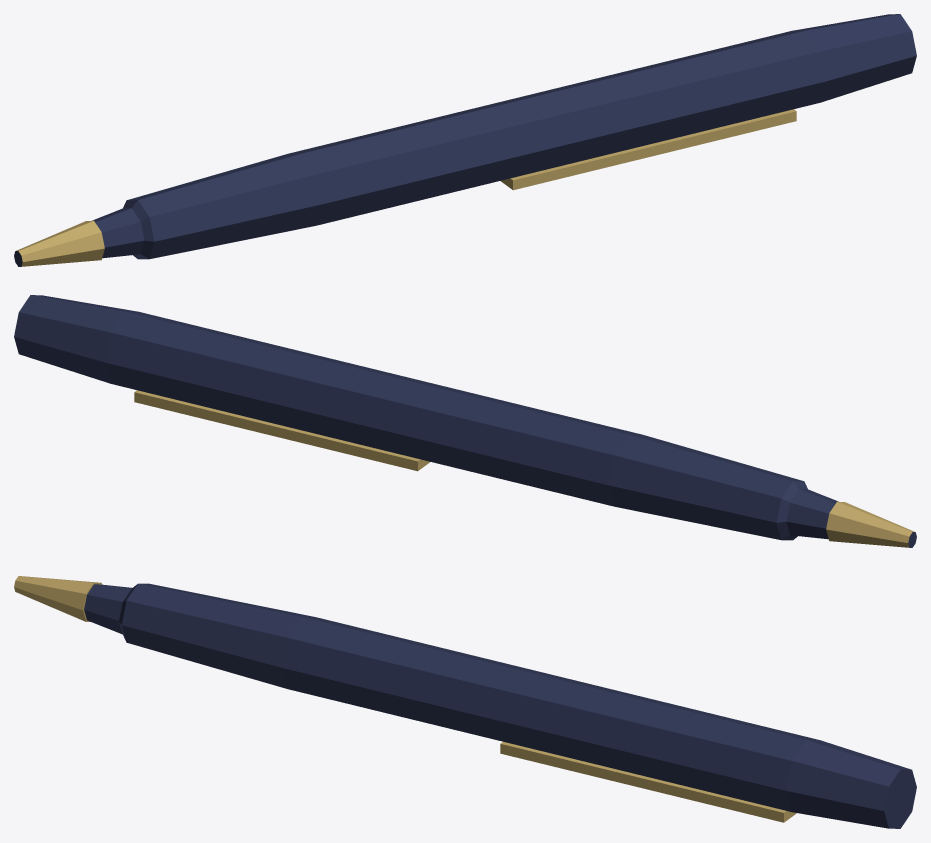
The model's file is pen.glb.
3 renders of one model, top to bottom at view 1: azimuth 30°, elevation 25°; view 2: azimuth 150°, elevation 25°; view 3: azimuth 330°, elevation 25°, orthographic.
Visible parts, largest first — view 1: Pen; view 2: Pen; view 3: Pen.
Boxes of the visible parts, box(x1,y1,x2,y2) form: Pen: box(14, 14, 916, 266); Pen: box(14, 295, 916, 547); Pen: box(14, 576, 916, 828).
Size of the model in its own units: 0.14 by 0.0125 by 0.011.
